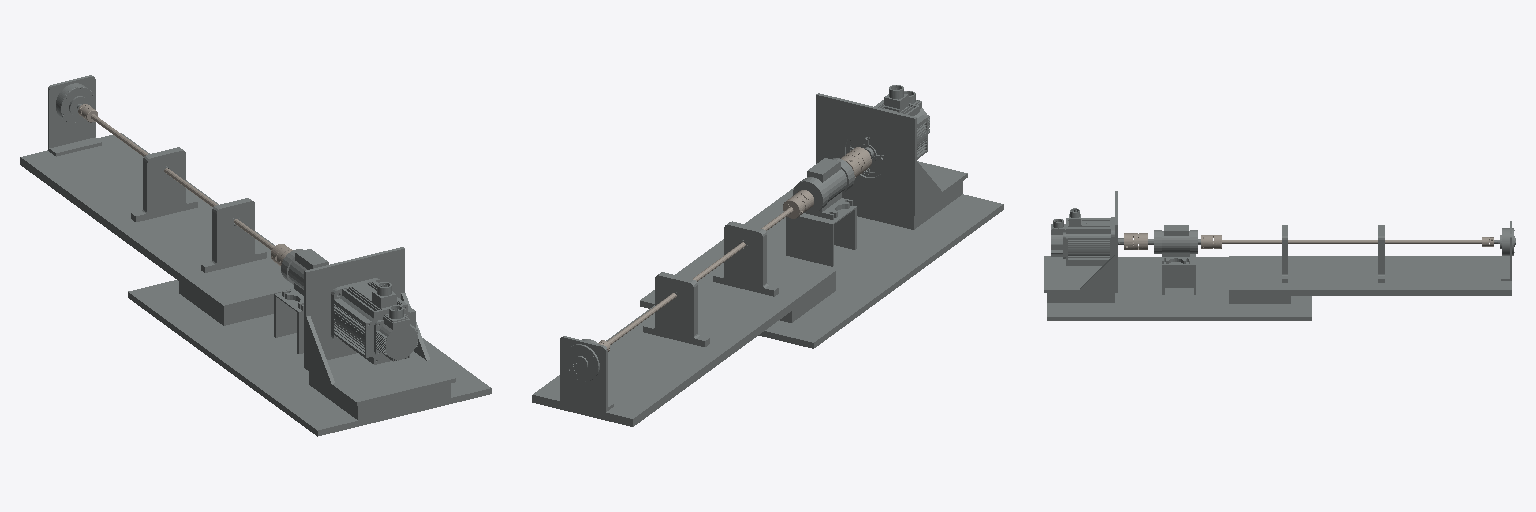
The robot description file, URDF, robot "shaft":
<?xml version="1.0" encoding="utf-8"?>
<!-- This URDF was automatically created by SolidWorks to URDF Exporter! Originally created by Stephen Brawner (brawner@gmail.com) 
     Commit Version: 1.6.0-1-g15f4949  Build Version: 1.6.7594.29634
     For more information, please see http://wiki.ros.org/sw_urdf_exporter -->
<robot
  name="shaft">
  <link
    name="shaft_base_link">
    <inertial>
      <origin
        xyz="-2.12E-08 0.048212 0.043784"
        rpy="0 0 0" />
      <mass
        value="107.39" />
      <inertia
        ixx="6.9348"
        ixy="-2.3541E-08"
        ixz="9.1524E-08"
        iyy="1.221"
        iyz="0.21307"
        izz="7.81" />
    </inertial>
    <visual>
      <origin
        xyz="0 0 0"
        rpy="0 0 0" />
      <geometry>
        <mesh
          filename="package://shaft_v1/meshes/shaft_base_link.STL" />
      </geometry>
      <material
        name="">
        <color
          rgba="0.52941 0.54902 0.54902 1" />
      </material>
    </visual>
    <collision>
      <origin
        xyz="0 0 0"
        rpy="0 0 0" />
      <geometry>
        <mesh
          filename="package://shaft_v1/meshes/shaft_base_link.STL" />
      </geometry>
    </collision>
  </link>
  <link
    name="shaft_Link1">
    <inertial>
      <origin
        xyz="-8.0694E-06 -0.6755 -2.4826E-05"
        rpy="0 0 0" />
      <mass
        value="1.4808" />
      <inertia
        ixx="0.04816"
        ixy="6.813E-08"
        ixz="-1.044E-07"
        iyy="0.00026623"
        iyz="-2.7226E-08"
        izz="0.048159" />
    </inertial>
    <visual>
      <origin
        xyz="0 0 0"
        rpy="0 0 0" />
      <geometry>
        <mesh
          filename="package://shaft_v1/meshes/shaft_Link1.STL" />
      </geometry>
      <material
        name="">
        <color
          rgba="0.64706 0.61961 0.58824 1" />
      </material>
    </visual>
    <collision>
      <origin
        xyz="0 0 0"
        rpy="0 0 0" />
      <geometry>
        <mesh
          filename="package://shaft_v1/meshes/shaft_Link1.STL" />
      </geometry>
    </collision>
  </link>
  <joint
    name="shaft_joint1"
    type="continuous">
    <origin
      xyz="0 0.984 0.175"
      rpy="0 0 0" />
    <parent
      link="shaft_base_link" />
    <child
      link="shaft_Link1" />
    <axis
      xyz="0 1 0" />
    <limit
      lower="0"
      upper="0"
      effort="0"
      velocity="0" />
  </joint>
</robot>

--- What the picture shows (computed from the rendered views, not written in the file) ---
The picture shows the robot from 3 angles, left to right: view 1: azimuth 30°, elevation 25°; view 2: azimuth 150°, elevation 25°; view 3: azimuth 270°, elevation 25°; orthographic projection.
Model shaft with 2 links and 1 joints (1 continuous), rooted at shaft_base_link, posed all joints at 0.
Links seen in each view (by area): view 1: shaft_base_link, shaft_Link1; view 2: shaft_base_link, shaft_Link1; view 3: shaft_base_link, shaft_Link1.
Link boxes in pixels (x1,y1,x2,y2): shaft_base_link: [20, 75, 491, 436]; shaft_Link1: [78, 104, 292, 265]; shaft_base_link: [532, 85, 1003, 426]; shaft_Link1: [598, 147, 871, 351]; shaft_base_link: [1044, 191, 1515, 320]; shaft_Link1: [1124, 233, 1493, 249].
Bounding box of the posed robot: 0.45 × 1.51 × 0.295 m (x, y, z).
2 mesh visuals loaded from 2 distinct referenced files (2 binary STL).
